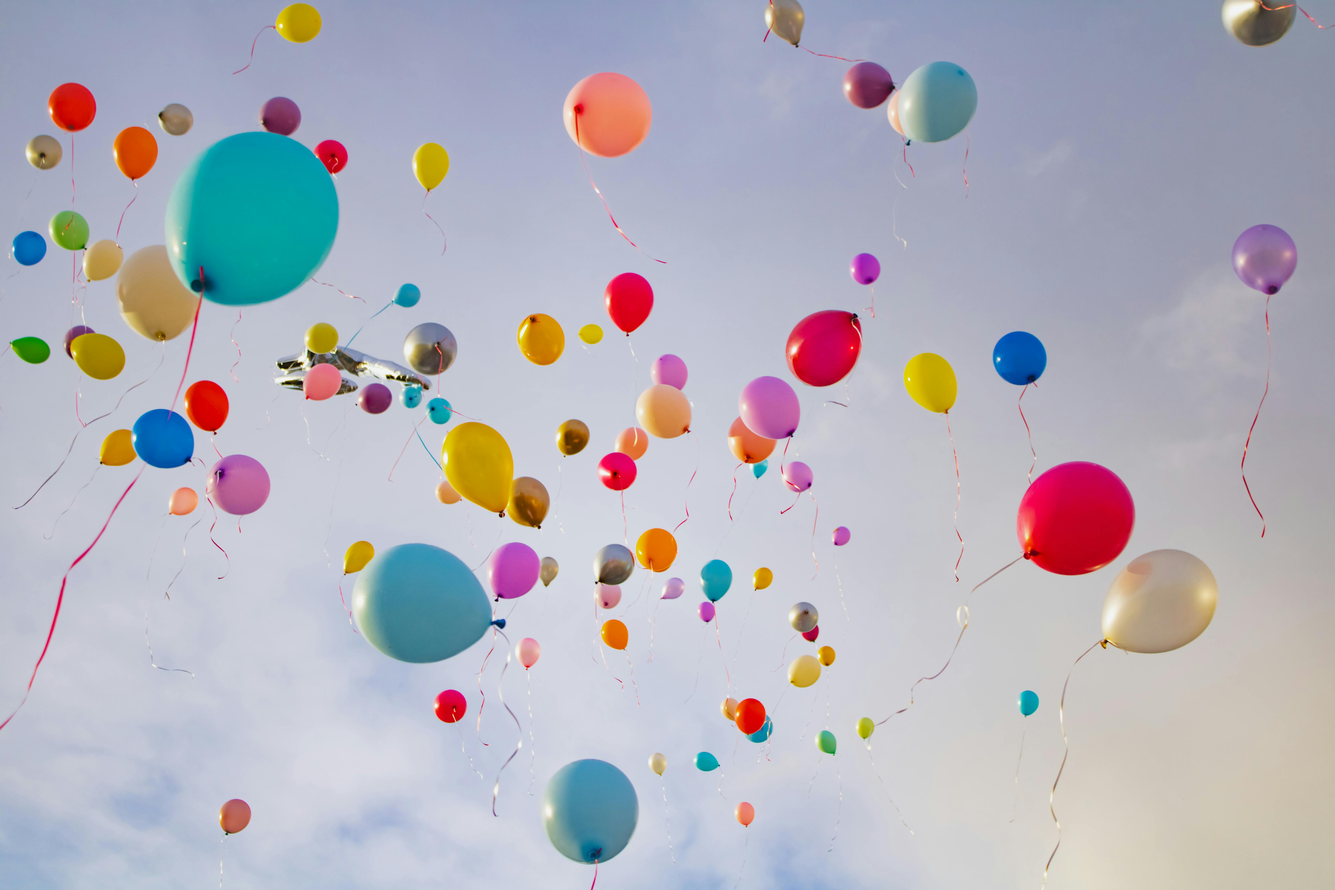balloon: (167, 131, 339, 306), (352, 543, 492, 663), (1017, 461, 1135, 575), (274, 332, 431, 413), (1102, 549, 1218, 653), (544, 759, 638, 885), (435, 401, 514, 513), (117, 245, 197, 342), (563, 72, 652, 158), (894, 61, 977, 143), (786, 310, 861, 387), (1232, 224, 1297, 295), (492, 542, 540, 628), (208, 454, 271, 516), (740, 376, 800, 439), (133, 409, 194, 468), (1222, 0, 1298, 47), (903, 353, 957, 413), (636, 384, 691, 439), (605, 273, 653, 336), (993, 331, 1047, 385), (404, 322, 457, 376), (71, 333, 125, 380), (517, 313, 564, 366), (844, 61, 895, 109), (114, 126, 158, 181), (184, 380, 229, 433), (48, 83, 96, 132), (728, 417, 776, 463), (506, 477, 549, 528), (276, 3, 322, 43), (636, 528, 677, 572), (765, 0, 804, 46), (413, 142, 449, 191), (84, 239, 124, 282), (595, 544, 635, 585), (49, 211, 89, 251), (260, 97, 301, 136), (597, 452, 636, 491), (304, 364, 341, 400), (100, 429, 136, 466), (701, 559, 732, 601), (26, 135, 62, 170), (653, 354, 688, 390), (13, 231, 47, 266), (557, 419, 589, 456), (314, 140, 348, 174), (158, 103, 193, 136), (736, 698, 766, 735), (11, 336, 50, 364), (789, 655, 822, 688), (434, 689, 466, 723), (220, 799, 251, 834), (358, 383, 392, 414), (306, 322, 338, 354), (344, 541, 375, 574), (617, 427, 648, 460), (64, 326, 95, 358), (784, 461, 813, 493), (789, 602, 818, 633), (852, 253, 880, 285), (886, 92, 905, 138), (601, 619, 629, 650), (170, 487, 198, 516), (517, 637, 541, 669), (595, 583, 622, 609), (748, 716, 773, 743), (436, 479, 461, 504), (394, 283, 420, 307), (428, 398, 451, 425), (540, 556, 558, 586), (1019, 690, 1039, 716), (662, 577, 685, 599), (736, 801, 755, 827), (579, 324, 603, 344), (817, 730, 836, 755), (696, 752, 719, 772), (403, 386, 422, 409), (754, 567, 773, 590), (649, 753, 667, 776), (858, 717, 875, 740), (722, 698, 738, 721), (699, 601, 715, 623), (818, 646, 835, 666), (833, 526, 850, 546), (801, 625, 819, 642), (753, 460, 767, 478)
